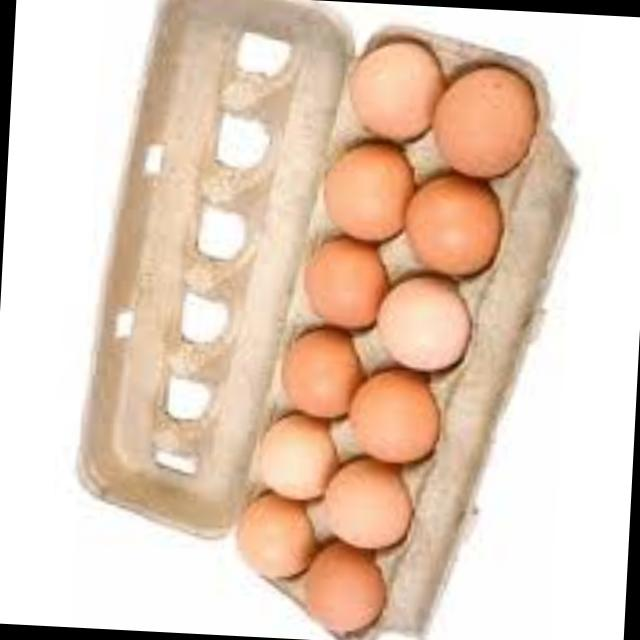cardboard paper: (79, 0, 346, 533), (339, 35, 569, 640)
